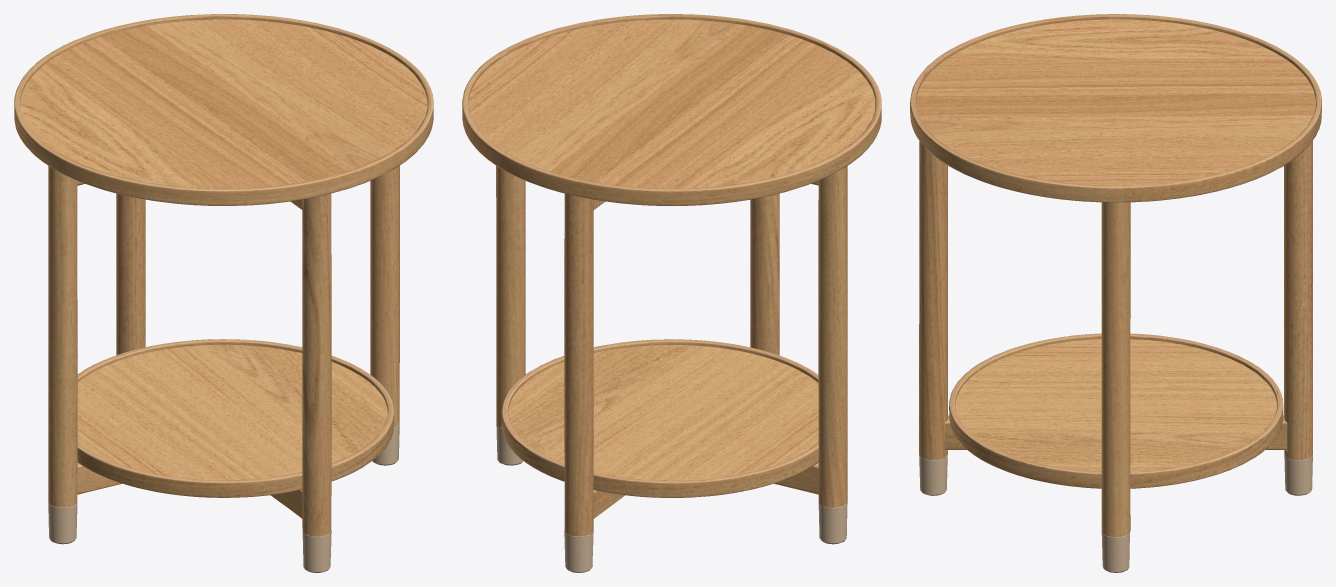
The model's file is valnas_stolik_80628035.glb.
3 views of the same model, side by side, from view 1: azimuth 30°, elevation 25°; view 2: azimuth 150°, elevation 25°; view 3: azimuth 270°, elevation 25° (orthographic).
Visible parts, largest first — view 1: valnas_stolik_80628035; view 2: valnas_stolik_80628035; view 3: valnas_stolik_80628035.
Part boxes in pixels (bbox=[...]): valnas_stolik_80628035: bbox=[14, 14, 433, 572]; valnas_stolik_80628035: bbox=[462, 14, 881, 572]; valnas_stolik_80628035: bbox=[910, 14, 1321, 572].
Size of the model in its own units: 0.5293 by 0.5535 by 0.5295.
Materials: 1 (1 with a texture image).
